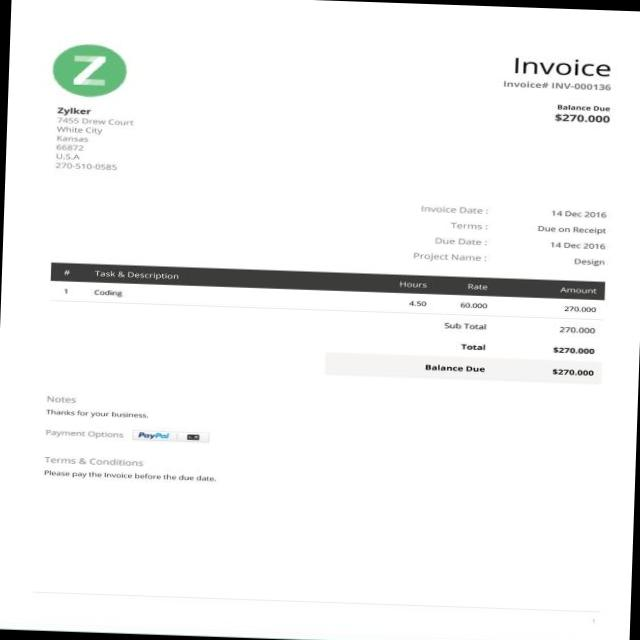due_date: (543, 238, 608, 254)
invoice_date: (543, 203, 612, 221)
invoice_number: (550, 77, 616, 95)
invoice_subtotal: (554, 322, 598, 336)
invoice_total: (546, 339, 600, 358)
item_description: (86, 286, 140, 304)
item_quantity: (394, 294, 430, 310)
item_total_price: (557, 300, 601, 316)
item_unit_price: (452, 296, 492, 314)
supplier_address: (51, 115, 138, 177)
supplier_name: (50, 101, 94, 116)
